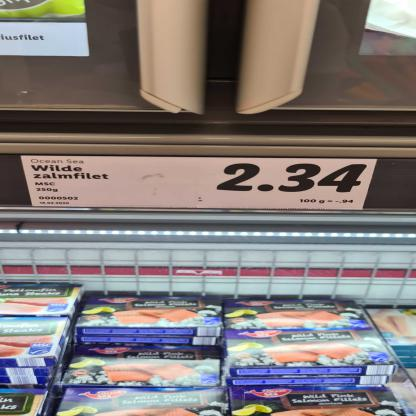prtg: (22, 156, 378, 211)
